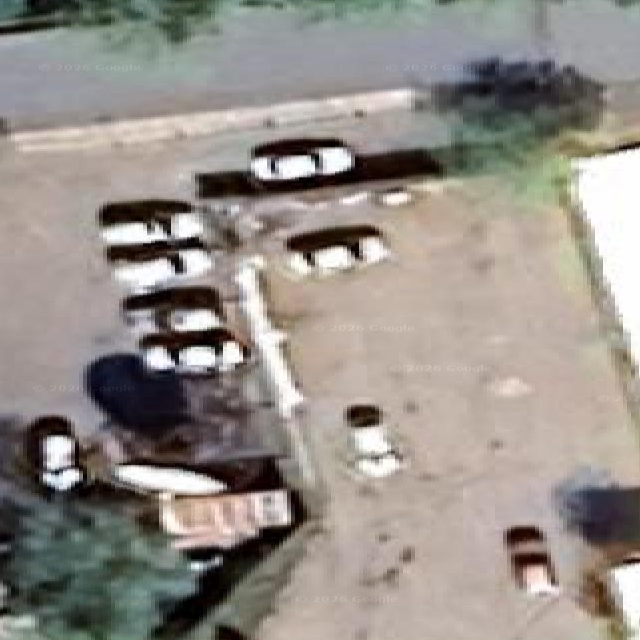car: (432, 56, 607, 131), (84, 352, 190, 440), (160, 488, 292, 547), (105, 239, 212, 292), (287, 224, 387, 275), (140, 327, 248, 373), (121, 284, 223, 332), (24, 415, 84, 492), (99, 201, 203, 244), (249, 139, 355, 180), (344, 404, 402, 476), (112, 462, 224, 495), (504, 524, 556, 595), (604, 553, 639, 639)
